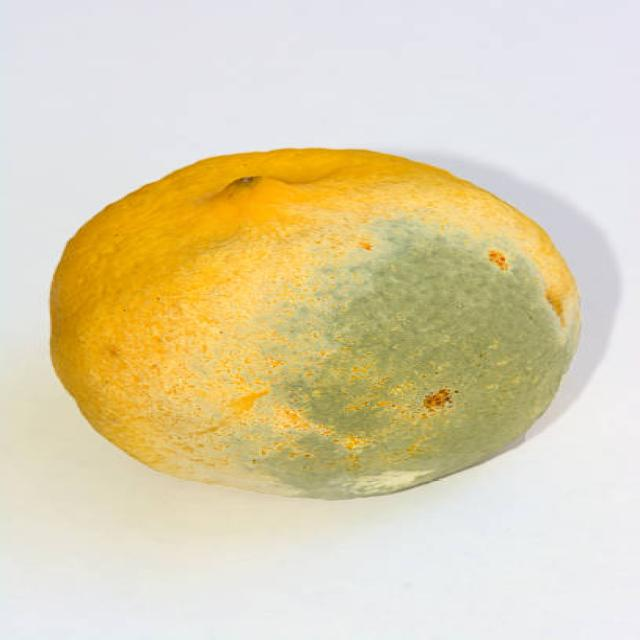Rotten: (44, 145, 576, 502)
